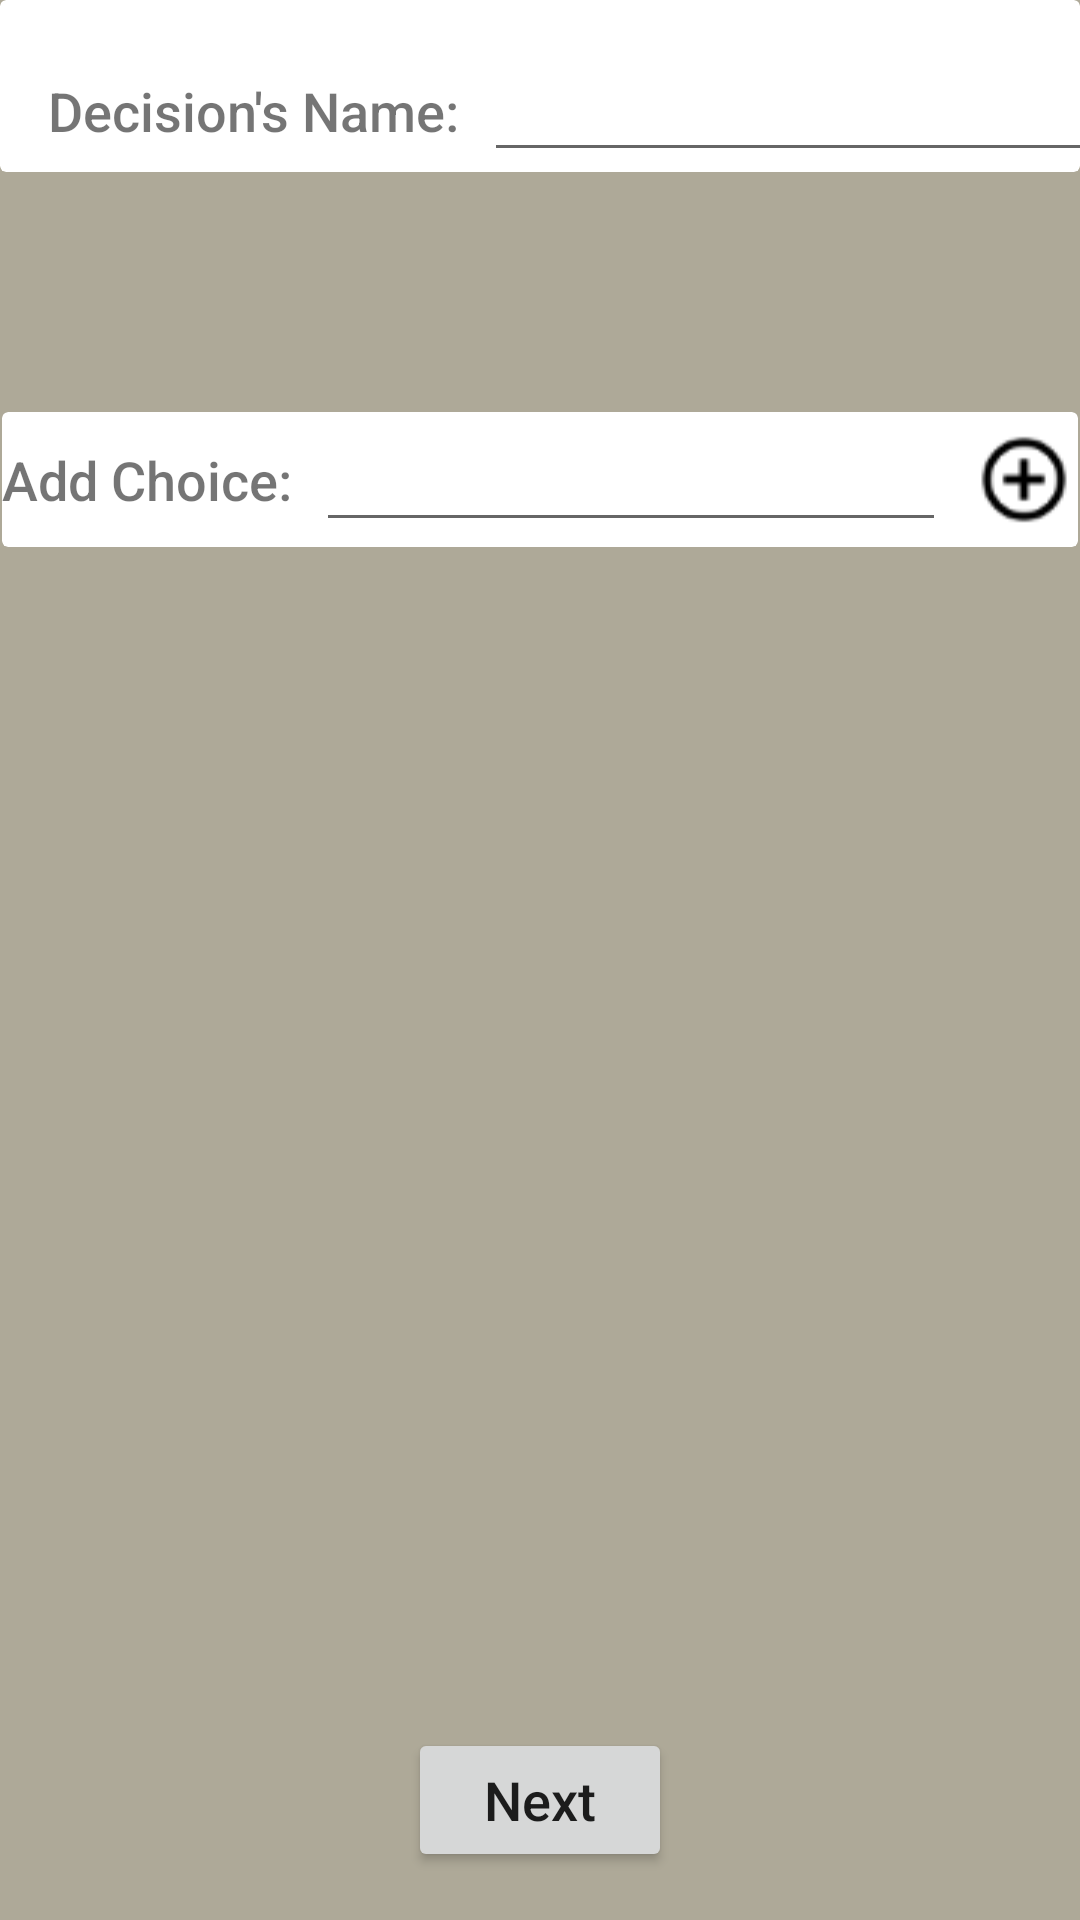

Named icons in this screenshot (1080*1920) and their bounding boxes, (x1, y1, x2, y2):
add circle: (981, 436, 1067, 523)
